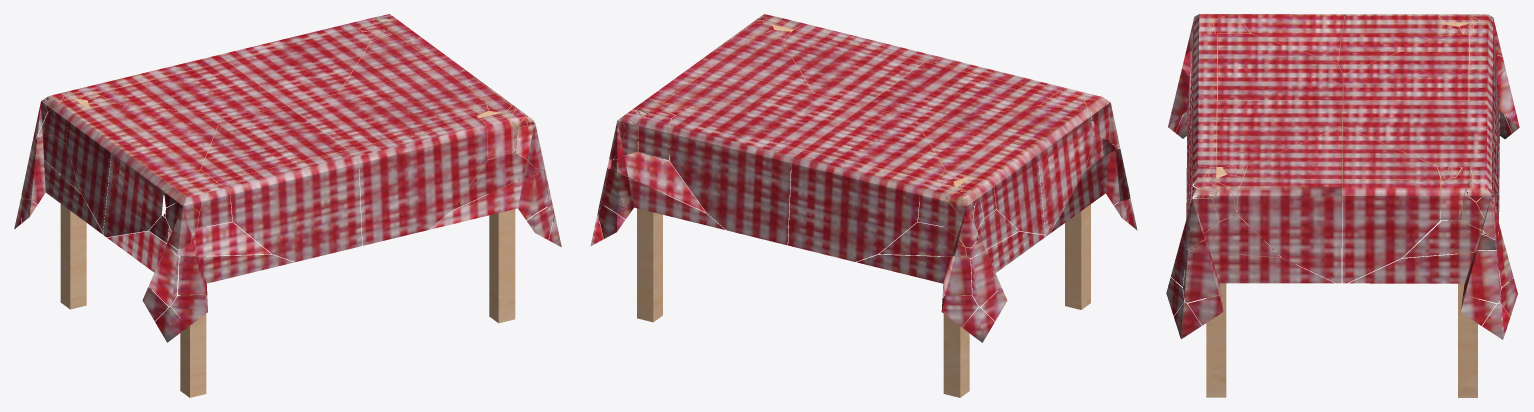
Rendered from table cell fracture.fbx.
3 renders of one model, left to right at view 1: azimuth 30°, elevation 25°; view 2: azimuth 150°, elevation 25°; view 3: azimuth 270°, elevation 25°, orthographic. The views are drawn at different scales.
Visible parts, largest first — view 1: Table.002_cell.021, Table.002_cell.069, Table.002_cell.020, Table.002_cell.005, Table.002_cell.066, Table.002_cell.138, Table.002_cell.156, Table.002_cell.133, Table.002_cell.025, Table.002_cell.148, Table.002_cell.132, Table.002_cell.106 (+28 smaller); view 2: Table.002_cell.005, Table.002_cell.079, Table.002_cell.020, Table.002_cell.066, Table.002_cell.138, Table.002_cell.156, Table.002_cell.133, Table.002_cell.148, Table.002_cell.025, Table.002_cell.092, Table.002_cell.163, Table.002_cell.097 (+26 smaller); view 3: Table.002_cell.005, Table.002_cell.130, Table.002_cell.115, Table.002_cell.138, Table.002_cell.133, Table.002_cell.156, Table.002_cell.107, Table.002_cell.101, Table.002_cell.066, Table.002_cell.020, Table.002_cell.148, Table.002_cell.025 (+31 smaller).
Boxes of the visible parts, x1,y1,x2,y2 form: Table.002_cell.021: (348, 118, 487, 245); Table.002_cell.069: (217, 150, 361, 262); Table.002_cell.020: (103, 125, 217, 237); Table.002_cell.005: (220, 24, 370, 105); Table.002_cell.066: (66, 103, 235, 231); Table.002_cell.138: (201, 106, 346, 181); Table.002_cell.156: (97, 61, 287, 117); Table.002_cell.133: (288, 93, 478, 149); Table.002_cell.025: (340, 68, 488, 107); Table.002_cell.148: (339, 34, 441, 92); Table.002_cell.132: (430, 170, 549, 229); Table.002_cell.106: (178, 254, 293, 296); Table.002_cell.005: (669, 93, 863, 245); Table.002_cell.079: (788, 150, 932, 261); Table.002_cell.020: (939, 105, 1093, 236); Table.002_cell.066: (915, 118, 1045, 234); Table.002_cell.138: (864, 62, 1053, 121); Table.002_cell.156: (804, 106, 945, 181); Table.002_cell.133: (782, 30, 923, 105); Table.002_cell.148: (664, 68, 811, 107); Table.002_cell.025: (711, 33, 812, 92); Table.002_cell.092: (602, 169, 724, 229); Table.002_cell.163: (857, 254, 971, 296); Table.002_cell.097: (1050, 149, 1130, 233); Table.002_cell.005: (1343, 100, 1499, 221); Table.002_cell.130: (1237, 179, 1341, 283); Table.002_cell.115: (1342, 179, 1440, 283); Table.002_cell.138: (1217, 34, 1342, 100); Table.002_cell.133: (1216, 100, 1342, 166); Table.002_cell.156: (1343, 34, 1468, 100); Table.002_cell.107: (1183, 250, 1334, 302); Table.002_cell.101: (1349, 250, 1500, 303); Table.002_cell.066: (1338, 14, 1442, 74); Table.002_cell.020: (1237, 14, 1344, 63); Table.002_cell.148: (1342, 127, 1440, 179); Table.002_cell.025: (1243, 127, 1342, 178).
Bounding box in the file's own units: 193 × 93.92 × 140.
Materials: 1 (1 with a texture image).
